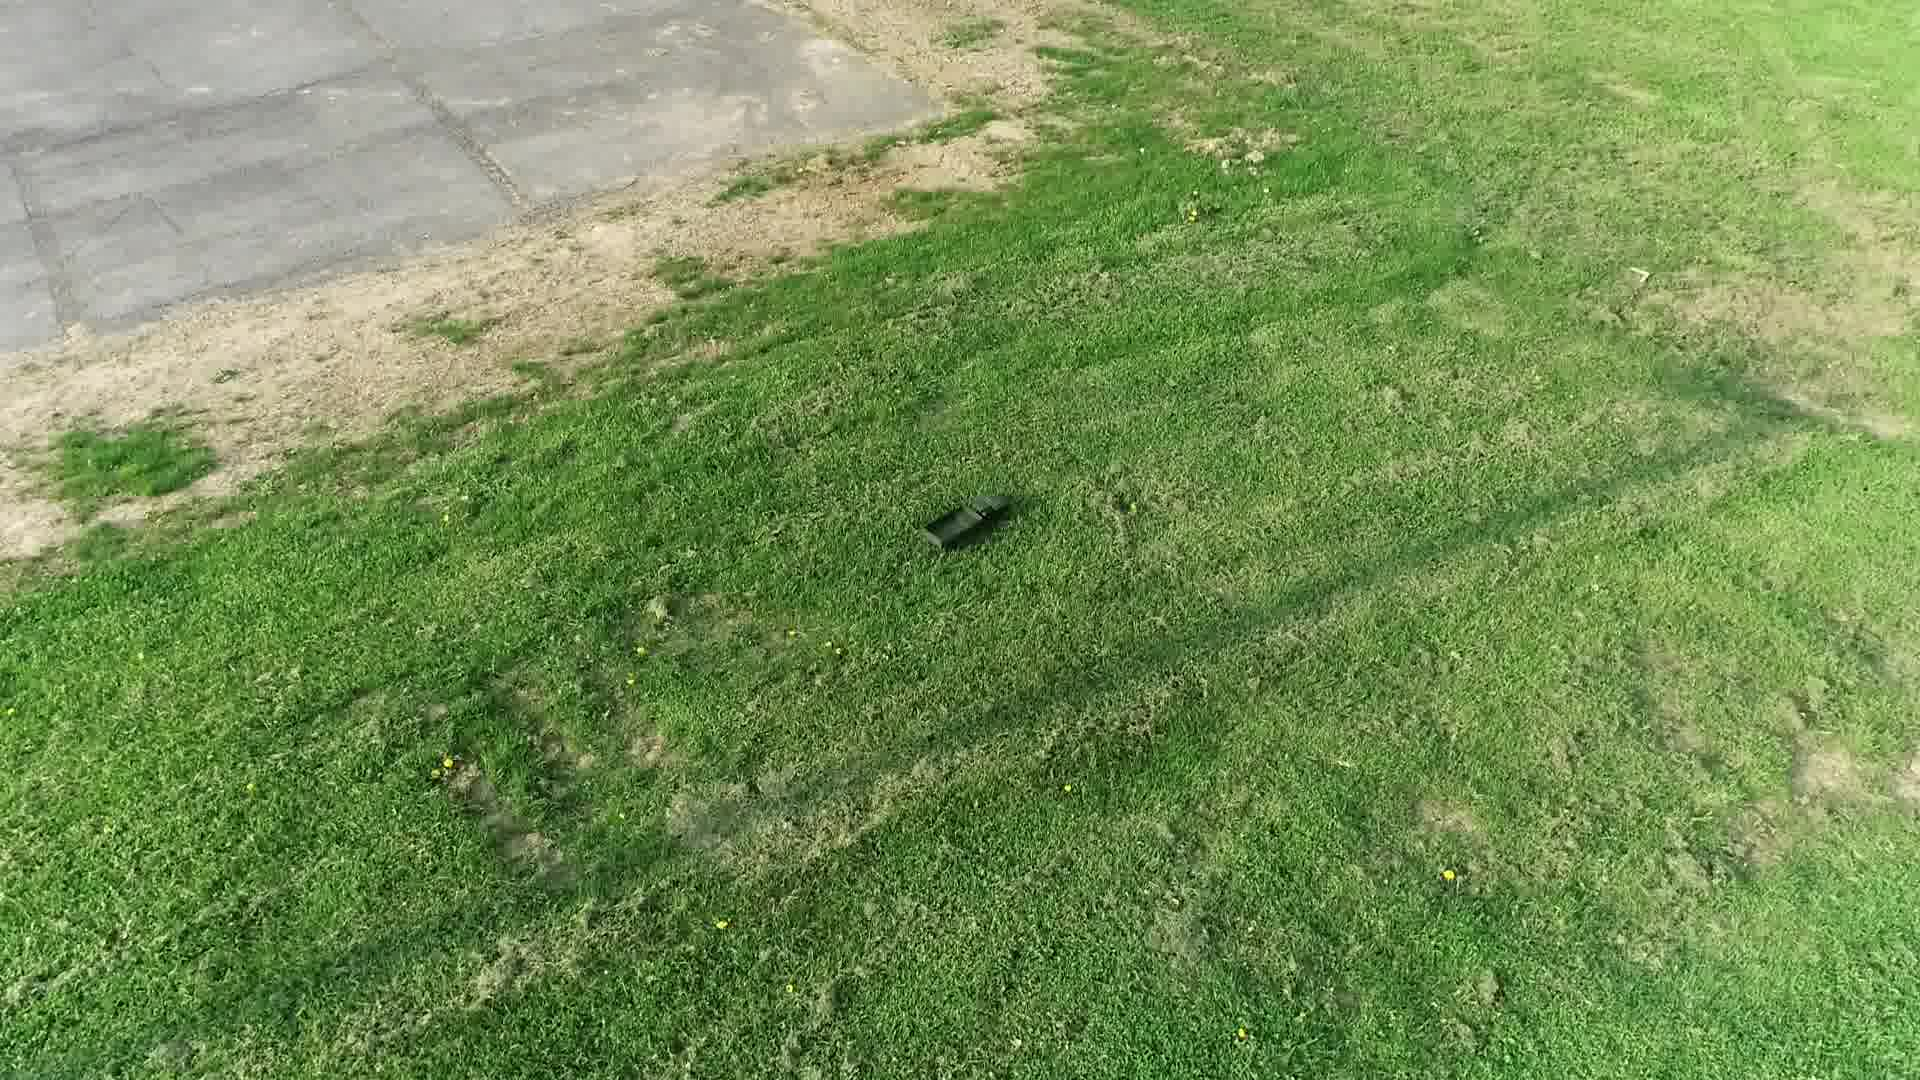transporter9: (919, 491, 1014, 554)
